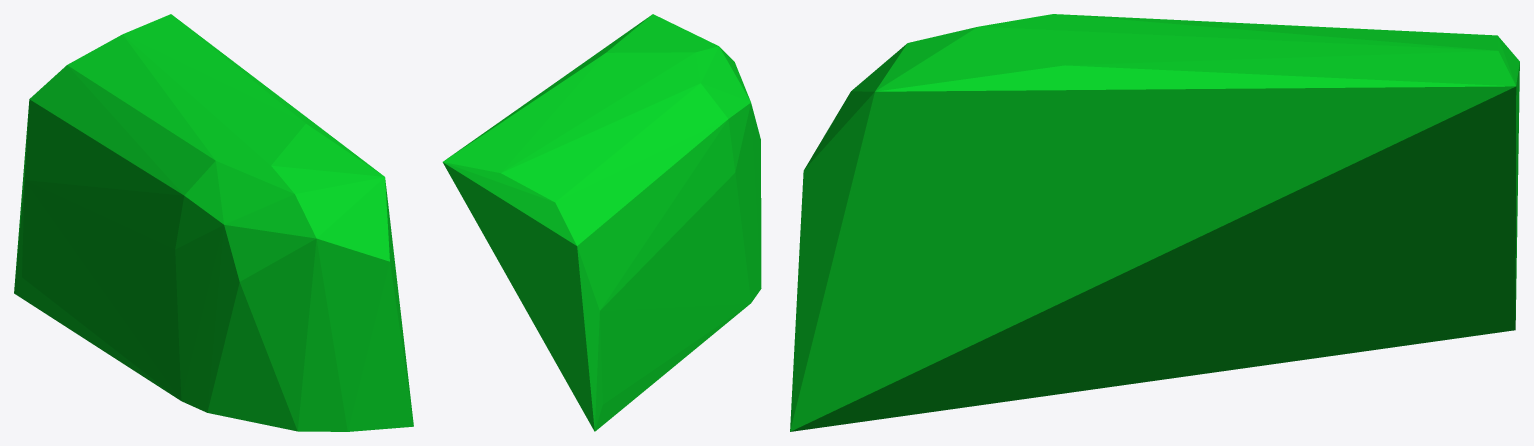
The model's file is arm-L3_convex_piece_000.obj.
3 renders of one model, left to right at view 1: azimuth 30°, elevation 25°; view 2: azimuth 150°, elevation 25°; view 3: azimuth 270°, elevation 25°, orthographic. The views are drawn at different scales.
Bounding box in the file's own units: 0.0307 × 0.0459 × 0.0828.
